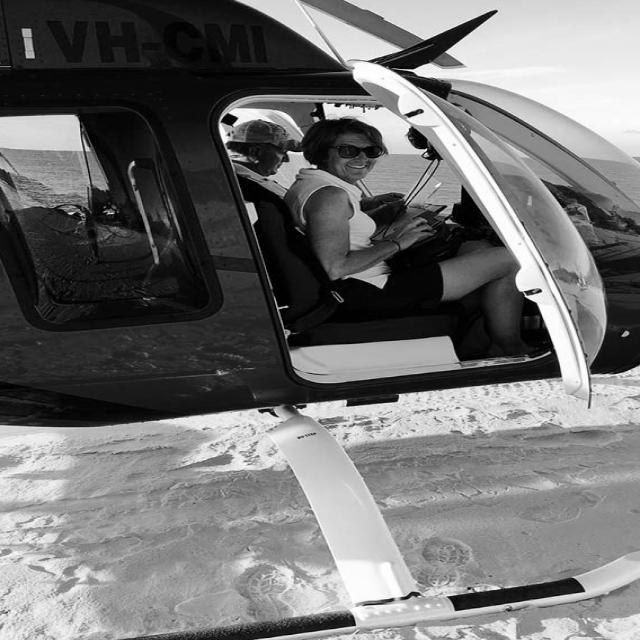helicopter: (1, 1, 640, 622)
